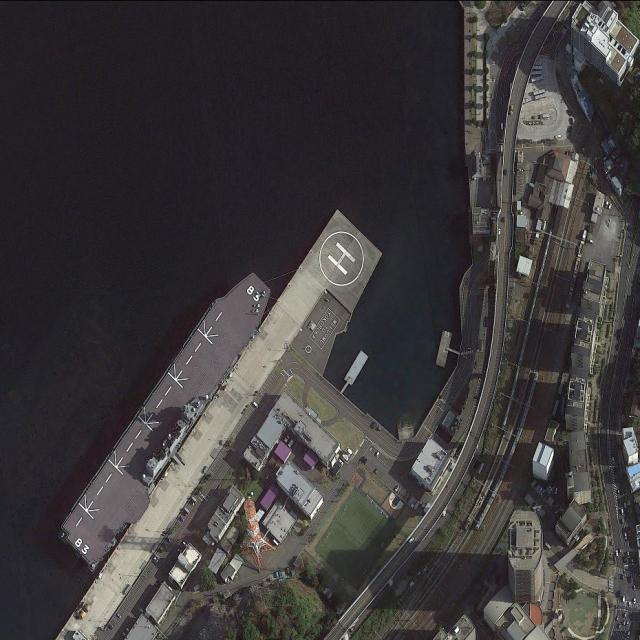Destroyer: (54, 266, 286, 566)
